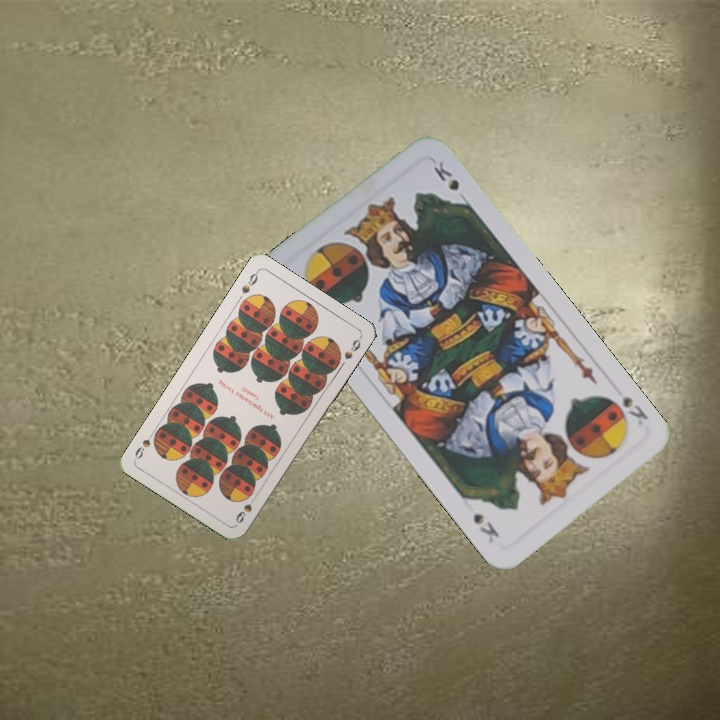S9: (231, 491, 260, 526), (237, 267, 261, 296)
SK: (617, 391, 651, 429)
